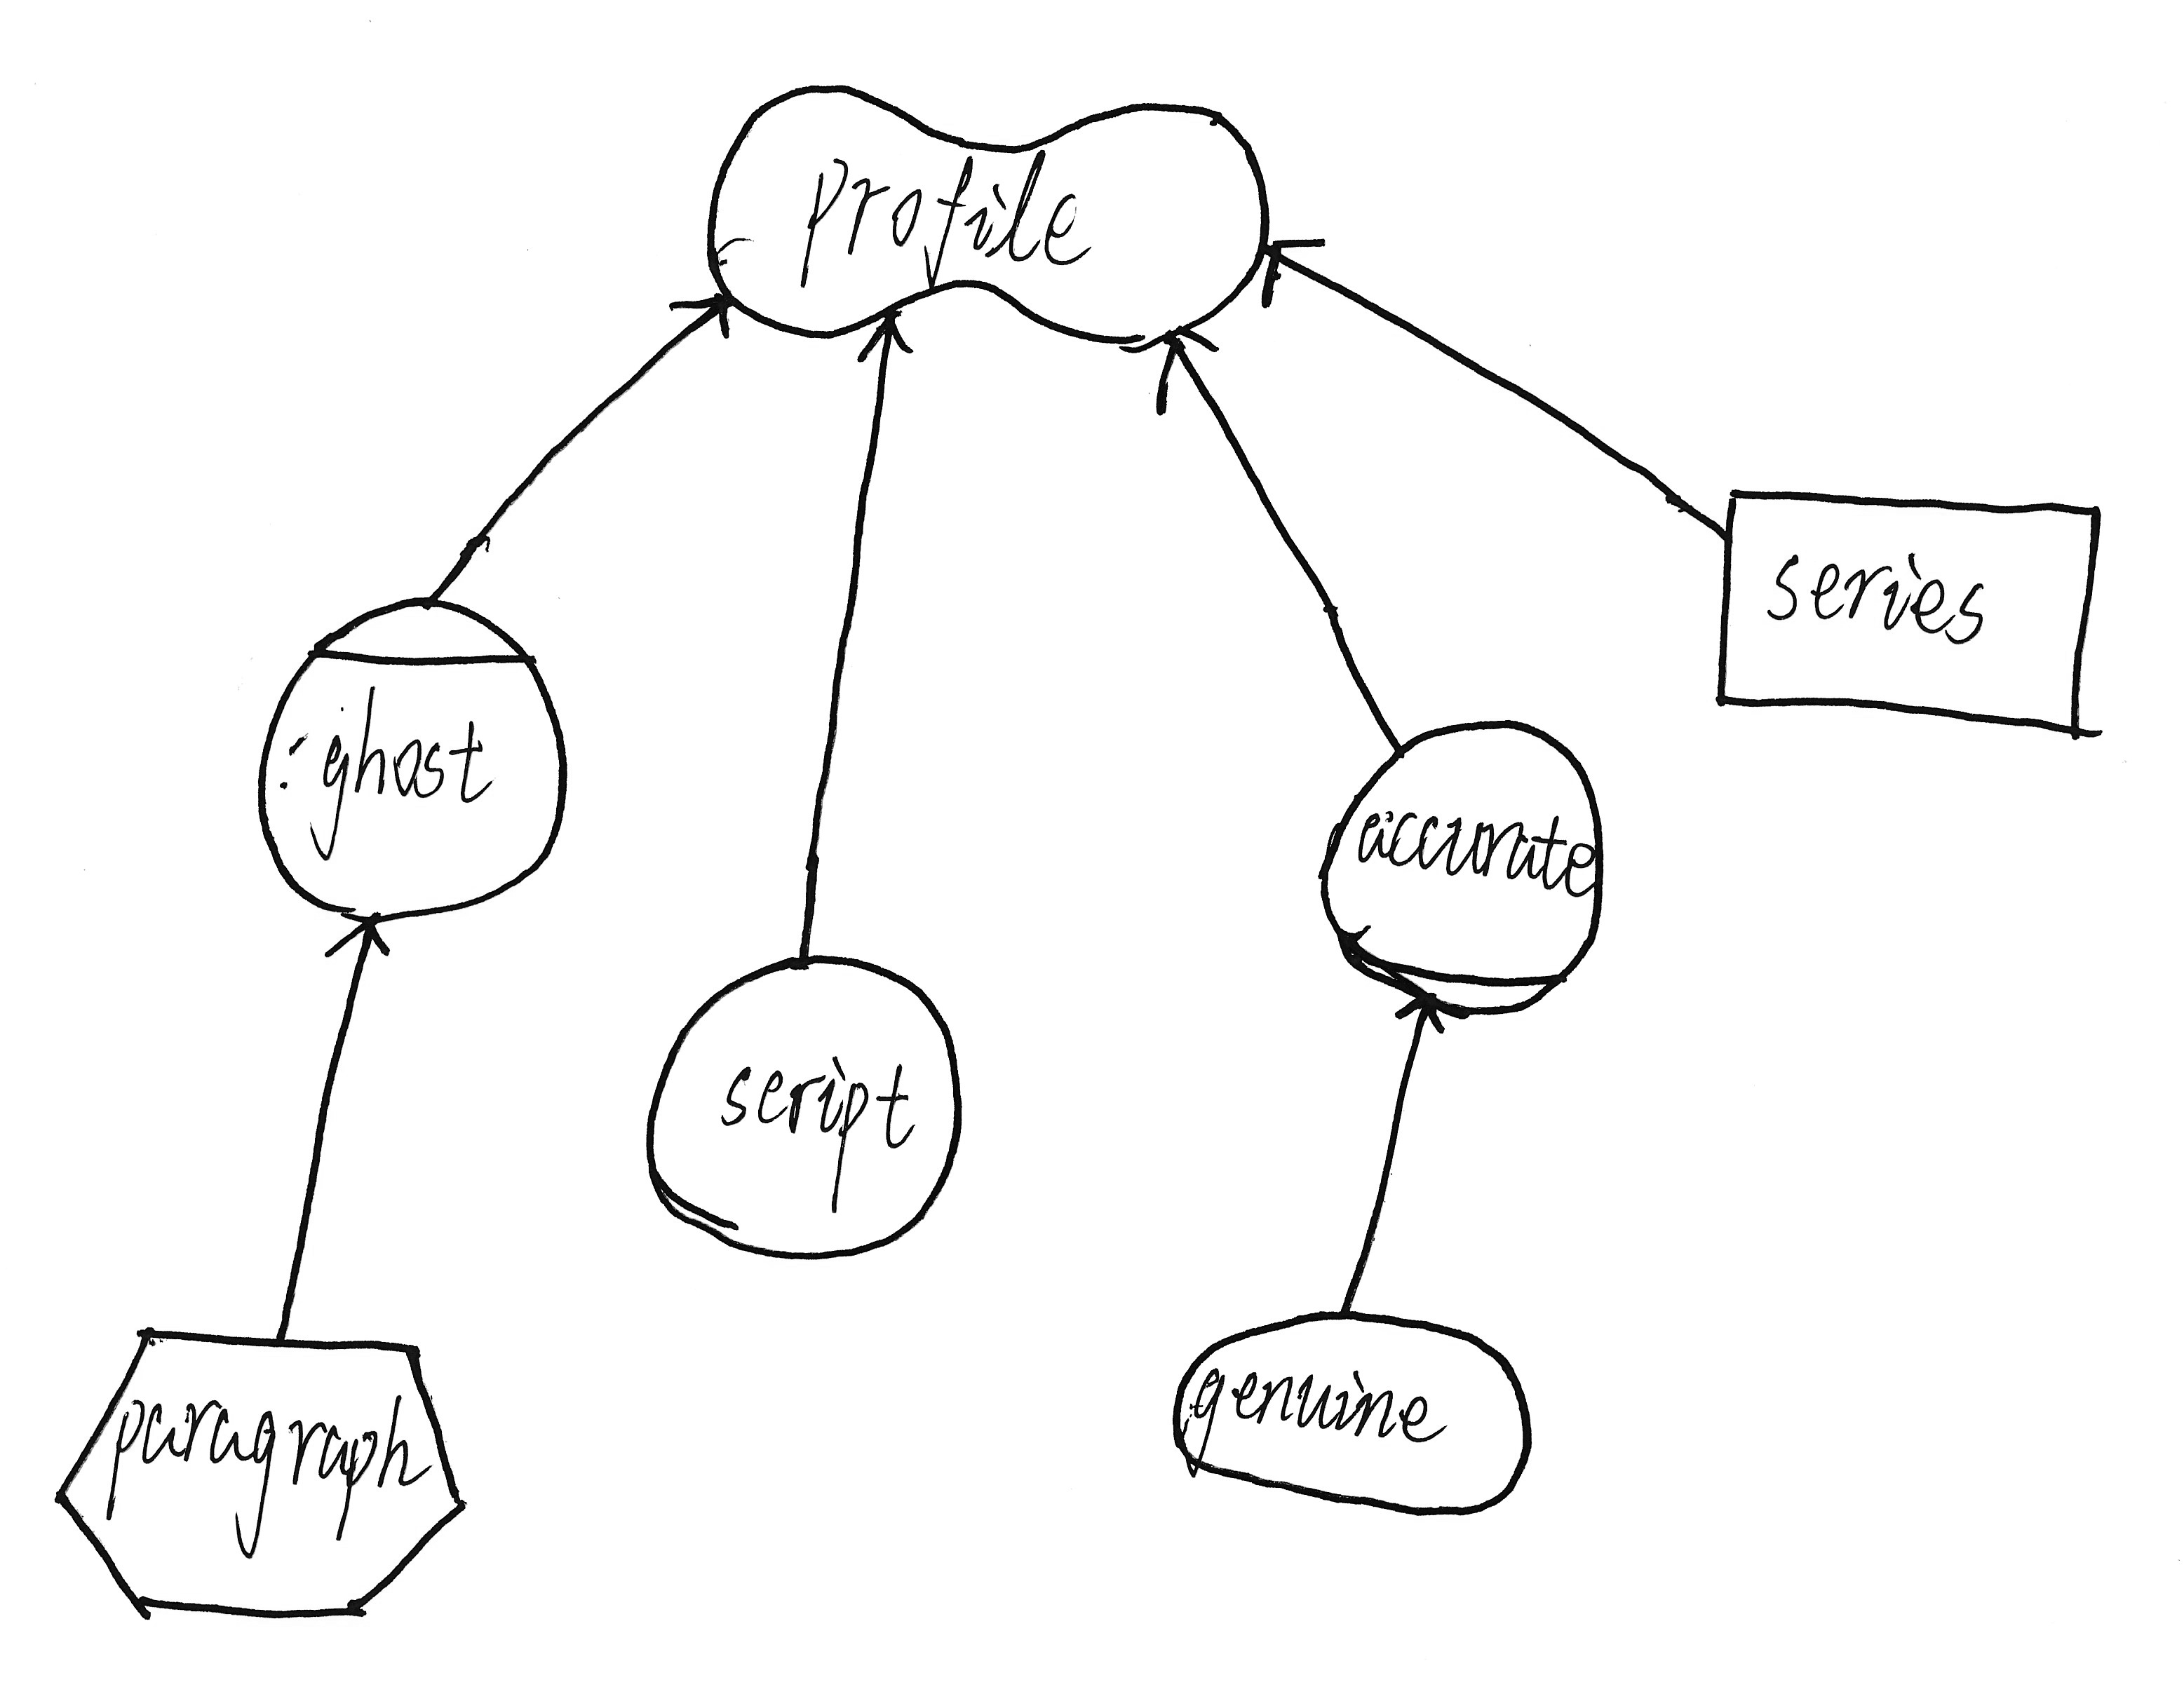actor: (631, 939, 977, 1285)
arrow: (1143, 312, 1230, 427), (1248, 225, 1342, 322), (851, 299, 941, 377), (658, 280, 750, 354), (310, 907, 402, 978), (1384, 989, 1455, 1047)
goal: (1158, 1292, 1546, 1543)
quality: (691, 60, 1298, 363)
resource: (1696, 464, 2127, 769)
role: (1301, 702, 1620, 1026)
task: (37, 1304, 493, 1639)
